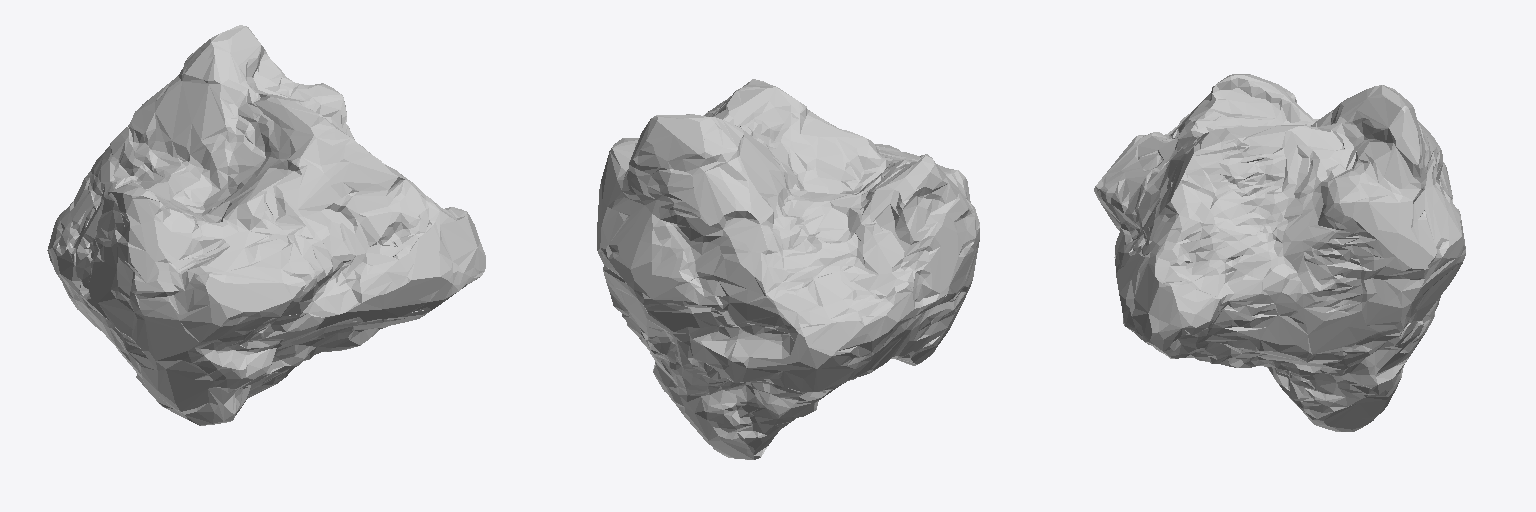
Rendered from uploads_files_2155717_Rock_LOD0.obj.
The picture shows the model from 3 angles: view 1: azimuth 30°, elevation 25°; view 2: azimuth 150°, elevation 25°; view 3: azimuth 270°, elevation 25°; orthographic projection.
Parts seen in each view (by area): view 1: Rock_02_LOD0; view 2: Rock_02_LOD0; view 3: Rock_02_LOD0.
Boxes of the visible parts, box(x1,y1,x2,y2) form: Rock_02_LOD0: box(47, 25, 485, 425); Rock_02_LOD0: box(597, 79, 979, 459); Rock_02_LOD0: box(1094, 74, 1465, 431).
Bounding box in the file's own units: 175 × 172 × 166.